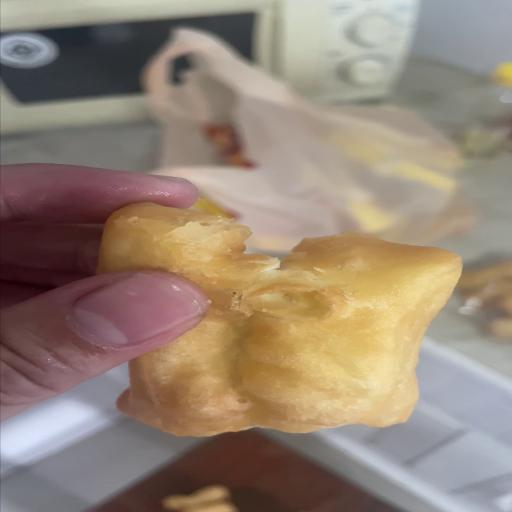street_golden_defect: (98, 198, 460, 437)
